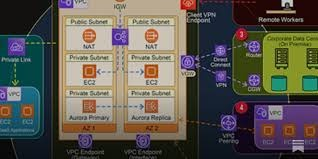ec2: (146, 65, 158, 78), (83, 65, 95, 78), (22, 105, 34, 118)
elb: (113, 29, 127, 45)
privatelink: (9, 39, 24, 54)
vpc endpoints: (135, 134, 149, 148), (195, 60, 201, 91), (78, 135, 91, 148)
